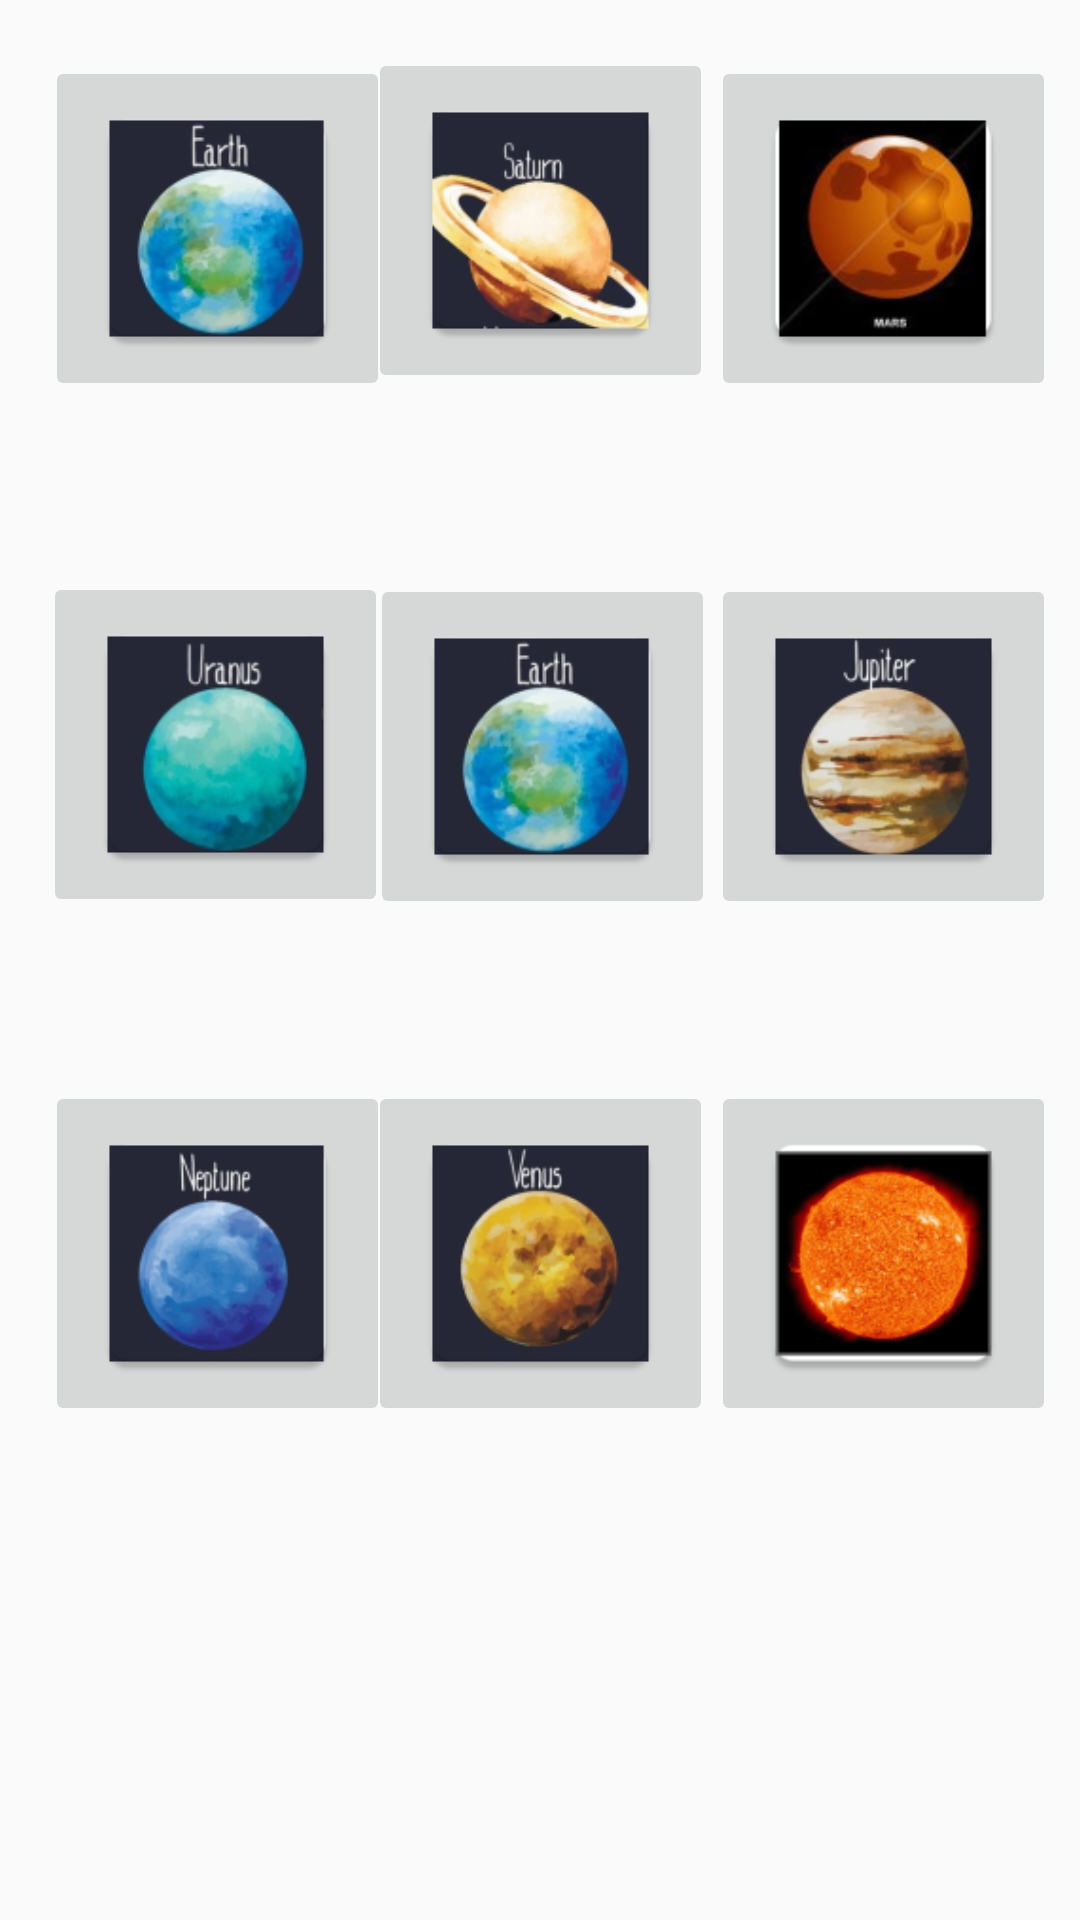

Icons on this 1080*1920 Android screen, each with the point to tap as [x,y]:
sun: [883,1253]
